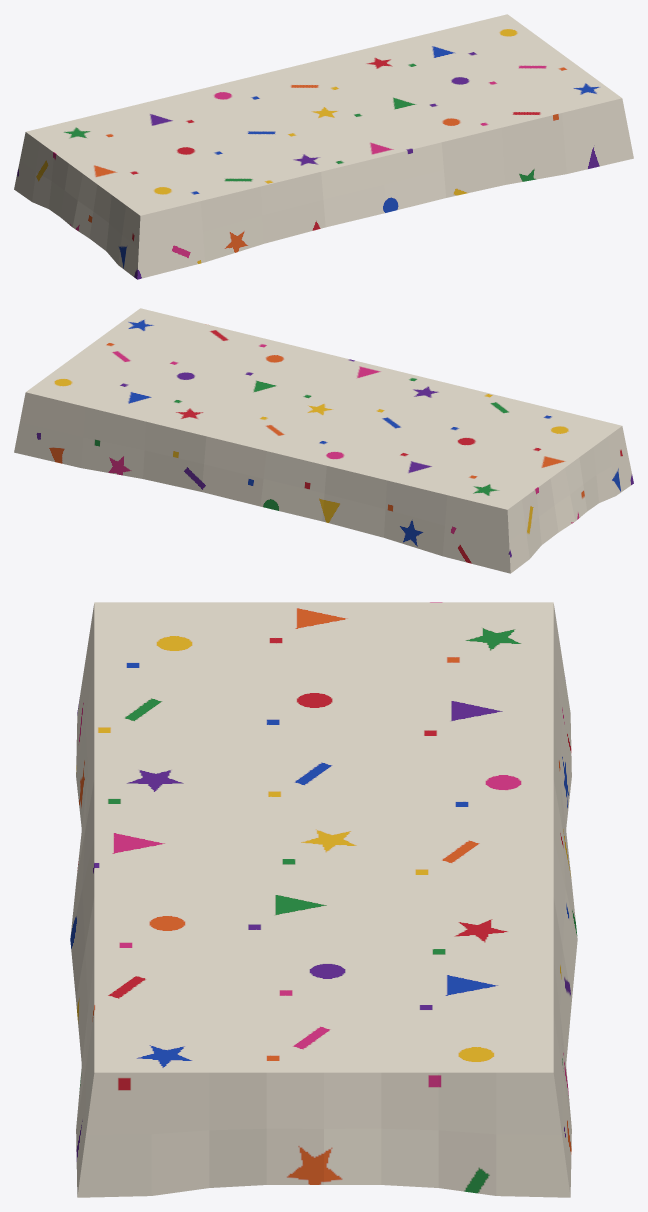
File: party_cloth_rect_confetti.glb
3 renders of one model, top to bottom at view 1: azimuth 30°, elevation 25°; view 2: azimuth 150°, elevation 25°; view 3: azimuth 270°, elevation 25°, orthographic. The views are drawn at different scales.
Parts seen in each view (by area): view 1: party_cloth_rect_confetti; view 2: party_cloth_rect_confetti; view 3: party_cloth_rect_confetti.
Boxes of the visible parts, <box> form: party_cloth_rect_confetti: <box>14,14,633,279</box>; party_cloth_rect_confetti: <box>14,308,633,573</box>; party_cloth_rect_confetti: <box>70,602,577,1197</box>.
Size of the model in its own units: 2.22 by 0.2493 by 0.97.
1 material, 1 textured.
